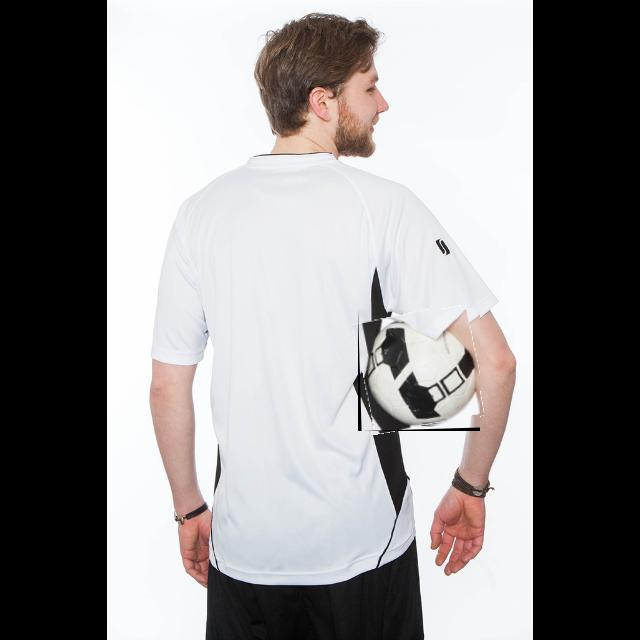Football: (358, 309, 480, 431)
